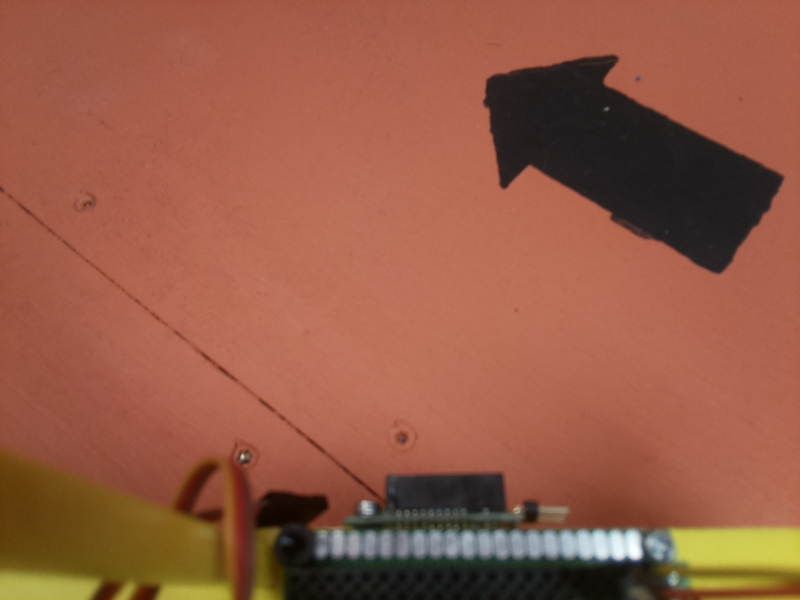start: (441, 50, 786, 293)
